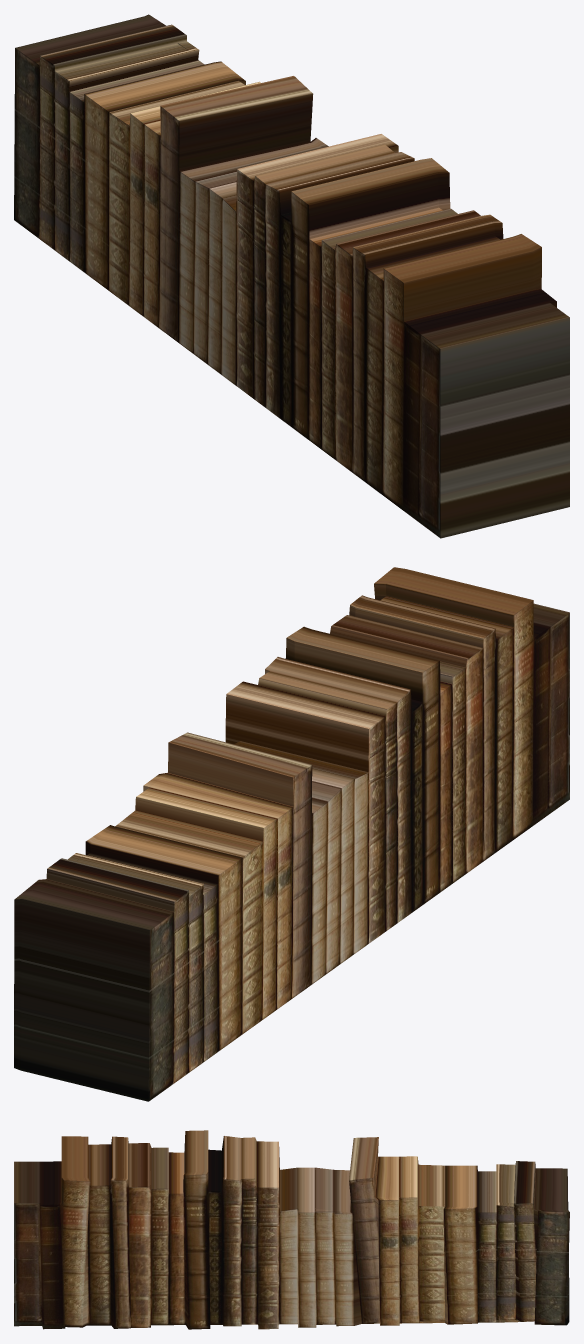
Rendered from Props_BookSet_1.fbx.
3 renders of one model, top to bottom at view 1: azimuth 30°, elevation 25°; view 2: azimuth 150°, elevation 25°; view 3: azimuth 270°, elevation 25°, orthographic. The views are drawn at different scales.
Visible parts, largest first — view 1: tx_books_1; view 2: tx_books_1; view 3: tx_books_1.
Part boxes in pixels (x1,y1,x2,y2): tx_books_1: [14, 14, 569, 538]; tx_books_1: [14, 567, 569, 1101]; tx_books_1: [14, 1130, 569, 1329].
Size of the model in its own units: 55.9 by 88.07 by 286.
